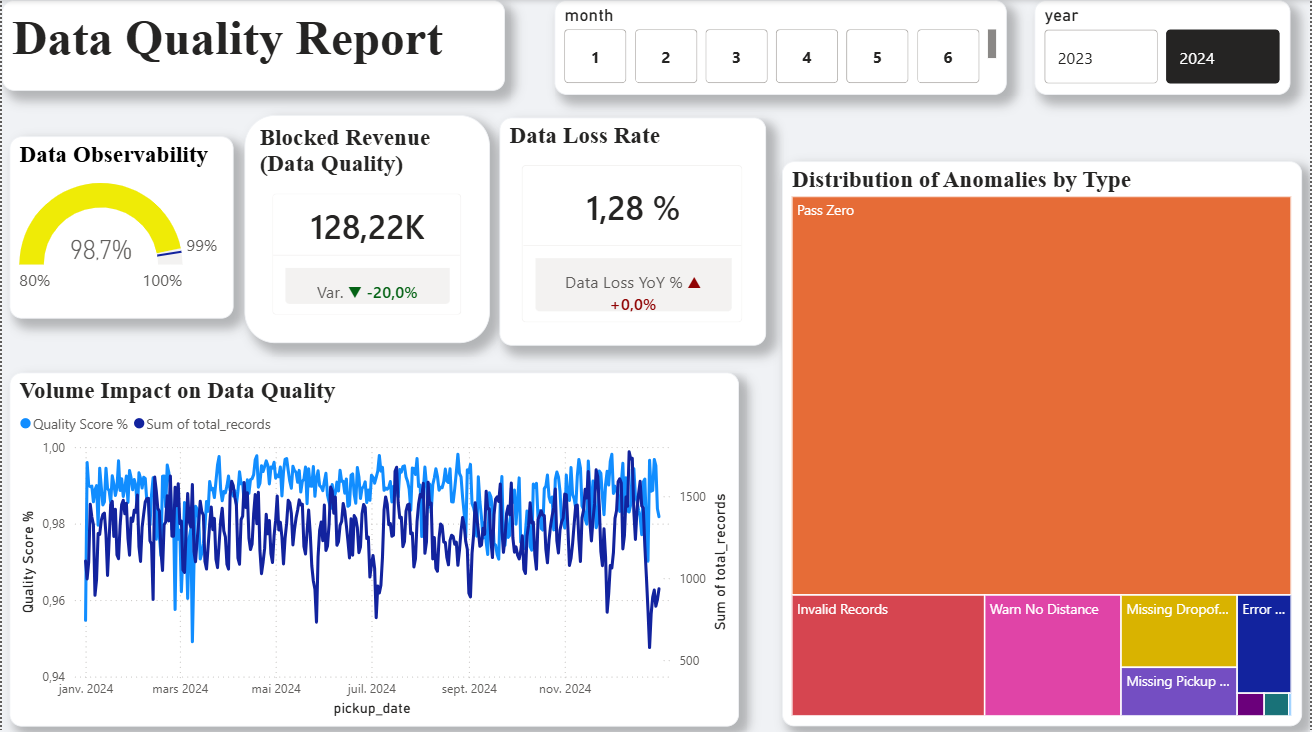

This screenshot's page, from the dashboard's own definition file:
{"tool":"powerbi","page":{"name":"Data Quality Report","canvas":[1280,720],"ordinal":4},"visuals":[{"type":"gauge","title":"Data Observability","fields":{"Y":["_Key Measures.Quality Score %"]},"box":[6.9,133,218.9,178.7],"z":0},{"type":"textbox","box":[0,0,491.9,88.7],"z":1000},{"type":"cardVisual","title":"Blocked Revenue (Data Quality)","fields":{"Data":["_Key Measures.Blocked Revenue"]},"box":[236.9,112.2,239.7,223.1],"z":2000},{"type":"advancedSlicerVisual","fields":{"Values":["dim_date.month"]},"box":[540.4,0,442,92.8],"z":2001},{"type":"advancedSlicerVisual","fields":{"Values":["dim_date.year"]},"box":[1010.1,0,250.8,92.8],"z":2002},{"type":"cardVisual","title":"Data Loss Rate","fields":{"Data":["_Key Measures.Data Loss Rate"]},"box":[486.3,115,260.5,223.1],"z":2003},{"type":"lineChart","title":"Volume Impact on Data Quality","fields":{"Category":["data_quality_report.pickup_date"],"Y":["_Key Measures.Quality Score %"],"Y2":["Sum(data_quality_report.total_records)"]},"box":[6.9,364.4,713.6,346.4],"z":2004},{"type":"treemap","title":"Distribution of Anomalies by Type","fields":{"Values":["Sum(data_quality_report.error_negative_duration)","Sum(data_quality_report.error_invalid_passengers)","Sum(data_quality_report.error_negative_fare)","Sum(data_quality_report.pass_missing)","Sum(data_quality_report.pass_zero)","Sum(data_quality_report.pass_too_many)","Sum(data_quality_report.error_time_travel)","Sum(data_quality_report.warn_duration_over_24h)","Sum(data_quality_report.warn_no_distance)","Sum(data_quality_report.missing_pickup_location)","Sum(data_quality_report.missing_dropoff_location)","Sum(data_quality_report.invalid_records)"]},"box":[763.5,158,508.5,552.8],"z":2005}]}

Visuals, with their boxes in screenshot pixels (x1, y1, x2, y2), scaled from the page's 1280x720 canvas onto the 1312x732 screenshot:
"Data Observability" gauge: <box>7,135,231,317</box>
textbox: <box>0,0,504,90</box>
"Blocked Revenue (Data Quality)" cardVisual: <box>243,114,489,341</box>
advancedSlicerVisual - dim_date.month: <box>554,0,1007,94</box>
advancedSlicerVisual - dim_date.year: <box>1035,0,1292,94</box>
"Data Loss Rate" cardVisual: <box>498,117,765,344</box>
"Volume Impact on Data Quality" lineChart: <box>7,370,739,723</box>
"Distribution of Anomalies by Type" treemap: <box>783,161,1304,723</box>
